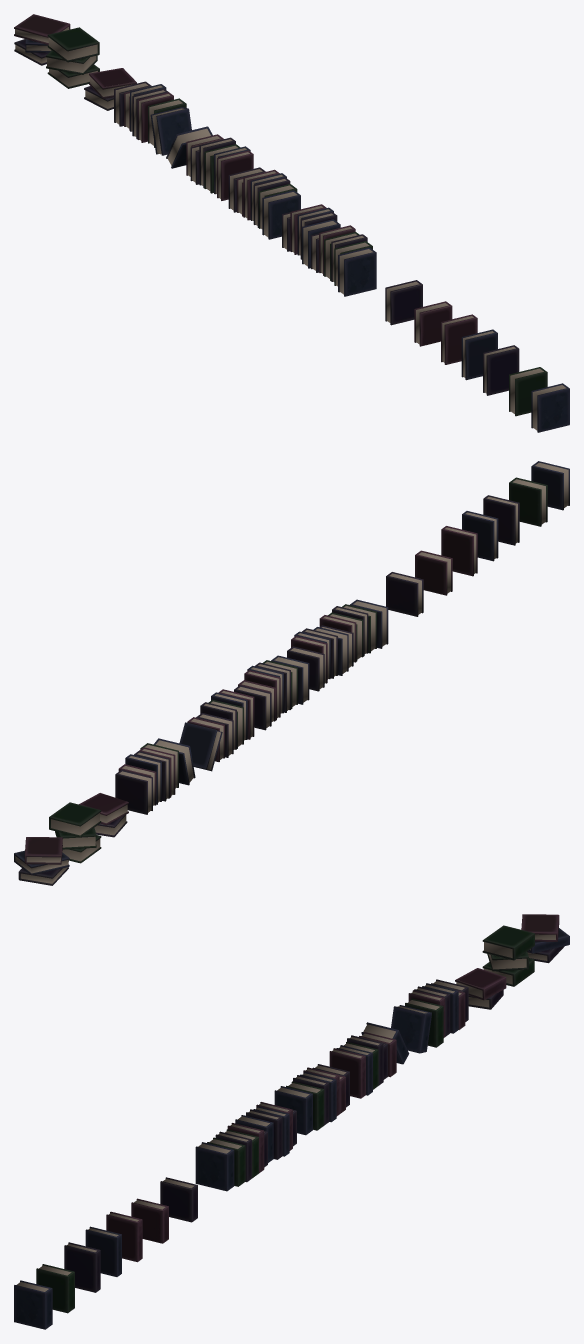
File: hub_books.fbx
3 renders of one model, top to bottom at view 1: azimuth 30°, elevation 25°; view 2: azimuth 150°, elevation 25°; view 3: azimuth 330°, elevation 25°, orthographic.
Visible parts, largest first — view 1: books_01, books_04, books_03, books_02, book_stack_02, book_06, book_stack_03, book_04, book_03, book_05, book_stack_01, book_01 (+2 smaller); view 2: books_01, books_04, books_03, books_02, book_stack_02, book_stack_03, book_07, book_05, book_03, book_02, book_06, book_04 (+2 smaller); view 3: books_01, books_04, books_03, books_02, book_stack_02, book_06, book_stack_03, book_04, book_stack_01, book_03, book_05, book_01 (+2 smaller).
Part boxes in pixels (x1,y1,x2,y2): books_01: (282,204,376,296); books_04: (114,81,191,155); books_03: (166,126,253,200); books_02: (228,167,300,239); book_stack_02: (46,27,99,88); book_06: (531,383,569,432); book_stack_03: (14,14,70,65); book_04: (483,345,519,395); book_03: (385,280,422,325); book_05: (509,367,547,416); book_stack_01: (84,68,136,110); book_01: (461,329,497,380); books_01: (287,599,388,691); books_04: (115,738,195,814); books_03: (179,689,254,771); books_02: (234,655,309,730); book_stack_02: (49,802,101,863); book_stack_03: (14,837,69,885); book_07: (441,526,477,576); book_05: (509,477,547,526); book_03: (386,572,423,616); book_02: (415,550,452,595); book_06: (531,461,569,510); book_04: (483,495,519,545); books_01: (195,1102,296,1191); books_04: (391,979,468,1053); books_03: (329,1022,409,1098); books_02: (274,1064,349,1135); book_stack_02: (482,925,534,986); book_06: (14,1280,52,1329); book_stack_03: (521,914,569,963); book_04: (64,1242,100,1292); book_stack_01: (455,968,506,1009); book_03: (160,1177,197,1222); book_05: (36,1264,74,1313); book_01: (85,1226,121,1276).
Bounding box in the file's own units: 245 × 191 × 4466.
Materials: 1 (1 with a texture image).
